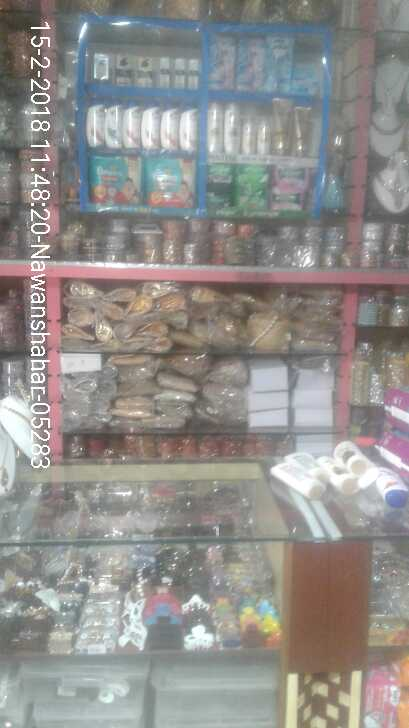venus: (236, 37, 267, 93), (267, 37, 293, 91), (211, 38, 236, 93), (293, 61, 322, 91)
